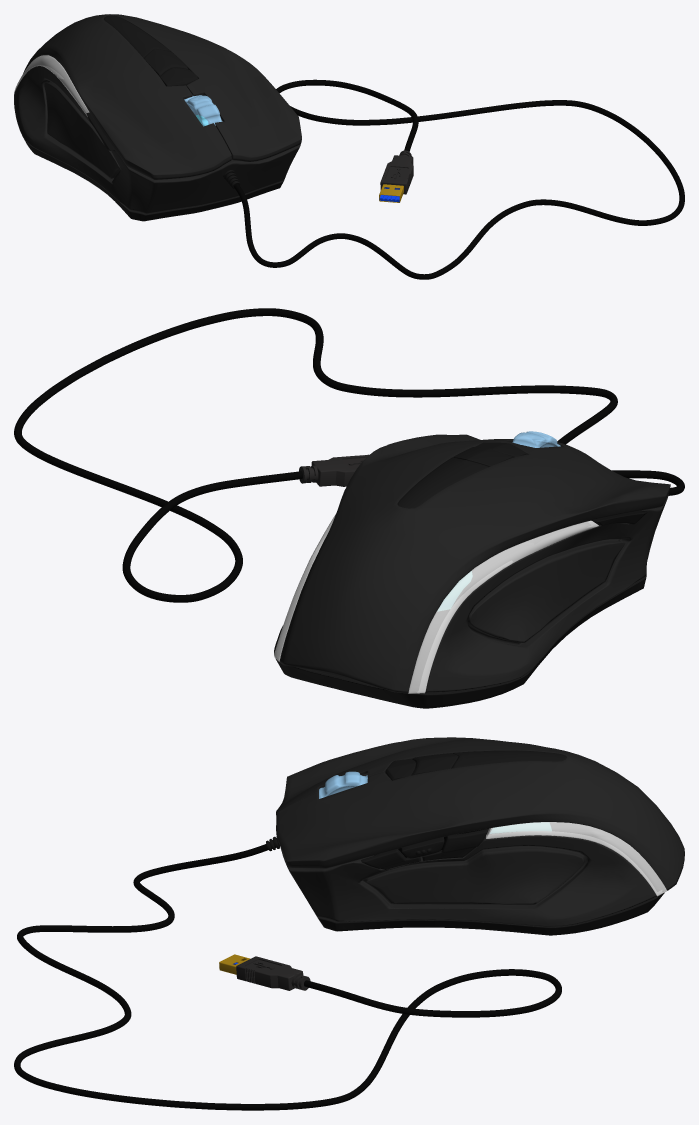
3 renders of one model, top to bottom at view 1: azimuth 30°, elevation 25°; view 2: azimuth 150°, elevation 25°; view 3: azimuth 270°, elevation 25°, orthographic. The views are drawn at different scales.
Visible parts, largest first — view 1: Mouse_Top, Mouse_Sides, Cord.001, Mouse_TopButtons, Mouse_Bottom, Cord_UsbBody, Mouse_Light_Right, Mouse_Wheel; view 2: Mouse_Top, Mouse_Sides, Cord.001, Mouse_Bottom, Mouse_Light_Right, Mouse_TopButtons, Cord_UsbBody, Mouse_Light_Left; view 3: Mouse_Top, Mouse_Sides, Cord.001, Mouse_Bottom, Mouse_Light_Left, Mouse_TopButtons, Mouse_SideLeftButtons, Cord_UsbBody, Mouse_Wheel.
Part boxes in pixels (x1,y1,x2,y2): Mouse_Top: (23,14,301,179); Mouse_Sides: (14,66,300,214); Cord.001: (234,79,684,279); Mouse_TopButtons: (104,15,198,86); Mouse_Bottom: (24,73,283,221); Cord_UsbBody: (380,150,413,194); Mouse_Light_Right: (14,55,89,116); Mouse_Wheel: (184,95,222,126); Mouse_Top: (279,434,670,693); Mouse_Sides: (274,494,668,692); Cord.001: (14,308,684,602); Mouse_Bottom: (275,540,646,708); Mouse_Light_Right: (408,520,598,693); Mouse_TopButtons: (397,442,527,508); Cord_UsbBody: (299,454,368,486); Mouse_Light_Left: (274,514,335,661); Mouse_Top: (276,737,684,890); Mouse_Sides: (280,773,656,926); Cord.001: (14,844,561,1110); Mouse_Bottom: (318,834,664,935); Mouse_Light_Left: (486,822,666,896); Mouse_TopButtons: (385,750,566,780); Mouse_SideLeftButtons: (361,829,488,869); Cord_UsbBody: (236,956,310,990); Mouse_Wheel: (319,771,367,798).
Size of the model in its own units: 1742 by 408 by 1809.
